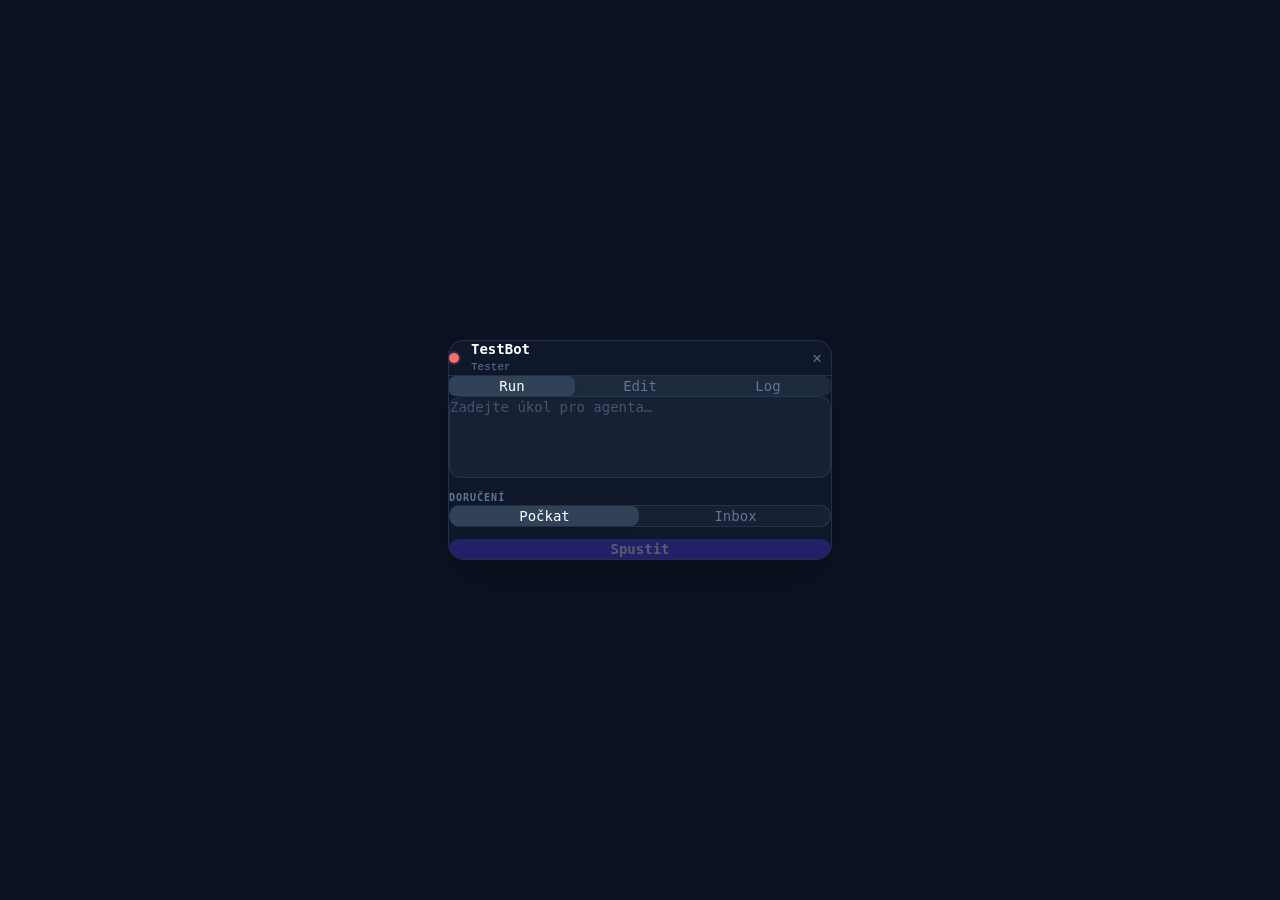
AgentPanel tabs › switches to Edit mode when Edit tab is clicked
What coordinates should you click on to do the following:
click the button with test id "tab-edit"
I would click on:
 (640, 386)
Its box is [577,376,703,396].
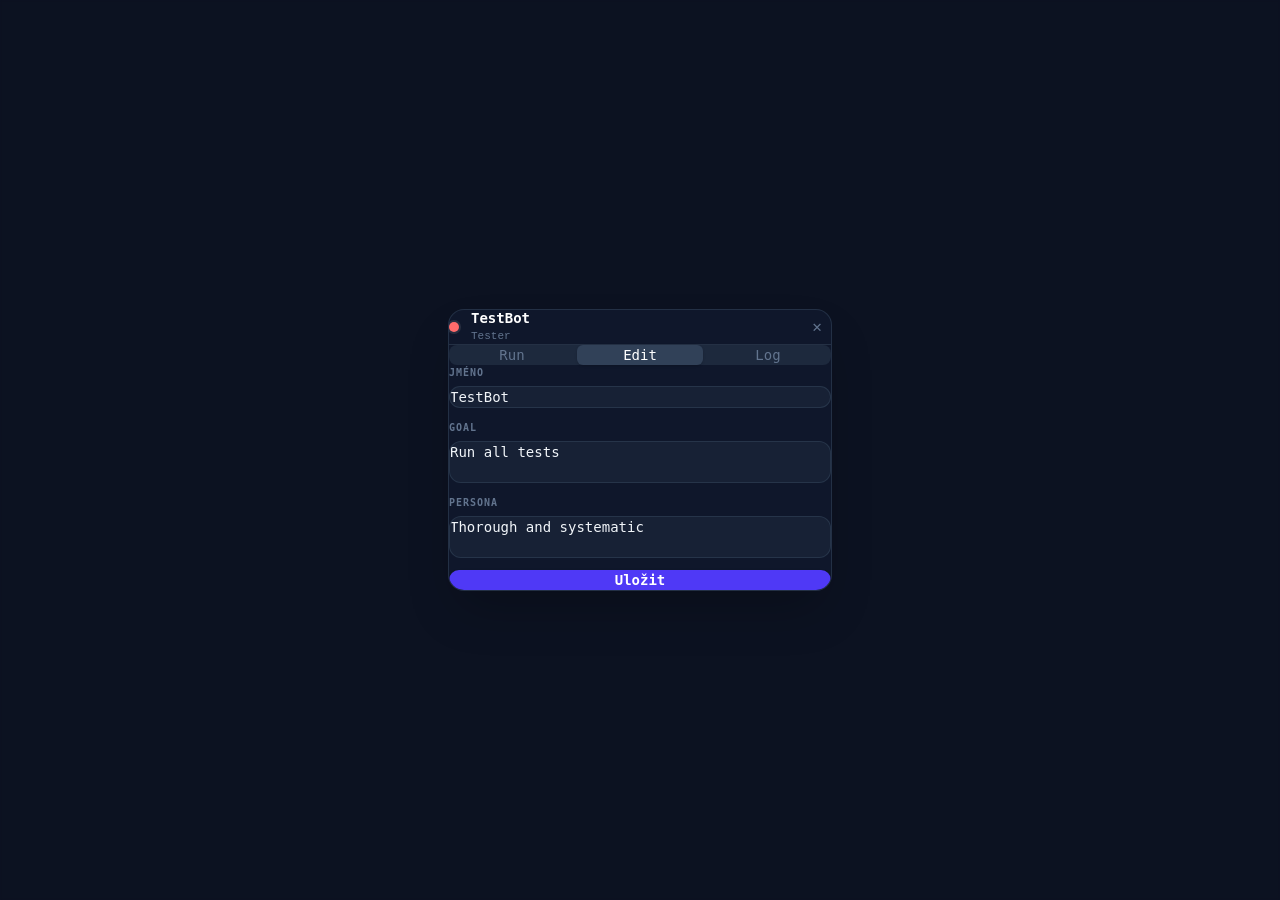
Expected: the field with test id "edit-name-input" is shown, [449,386,831,408]
Expected: the text box with test id "run-task-input" is gone
